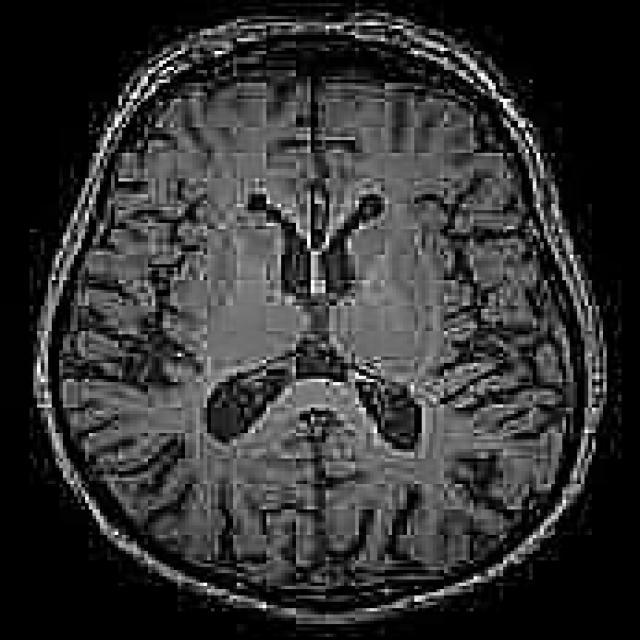notumor: (37, 3, 603, 621)
